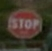stop: (7, 8, 42, 40)
